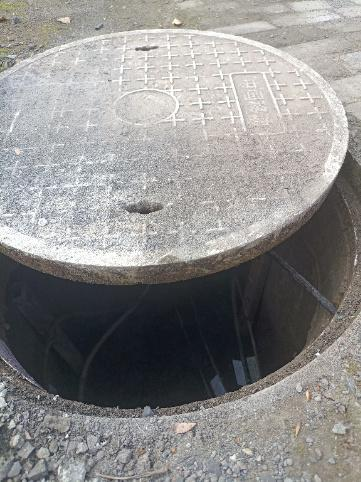wellcover: (0, 32, 361, 415)
